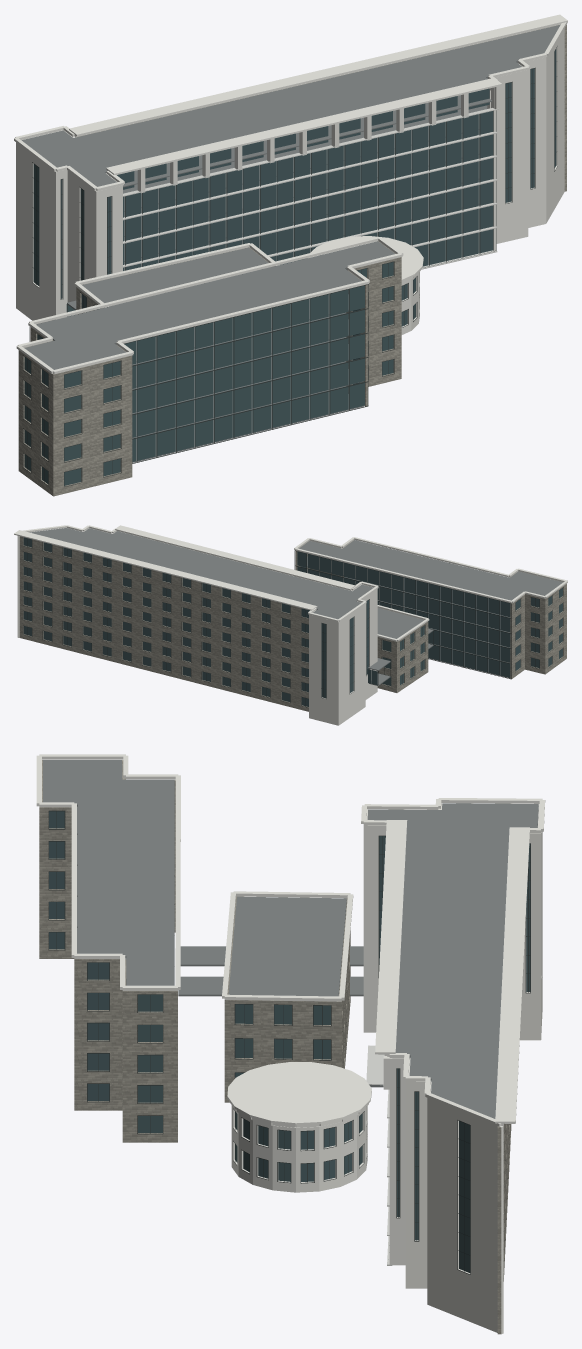
The picture shows the model from 3 angles, top to bottom: view 1: azimuth 30°, elevation 25°; view 2: azimuth 150°, elevation 25°; view 3: azimuth 270°, elevation 25°; orthographic projection. The views are drawn at different scales.
Visible parts, largest first — view 1: international__glass, international__roof, international__cream, international__stone, international__frame, international__light; view 2: international__stone, international__glass, international__roof, international__cream, international__frame; view 3: international__roof, international__cream, international__stone, international__glass, international__frame, international__light.
Boxes of the visible parts, x1=… form: international__glass: x1=24, y1=49, x2=556, y2=485; international__roof: x1=21, y1=25, x2=560, y2=462; international__cream: x1=14, y1=14, x2=567, y2=374; international__stone: x1=18, y1=24, x2=566, y2=496; international__frame: x1=23, y1=46, x2=557, y2=486; international__light: x1=123, y1=108, x2=498, y2=269; international__stone: x1=19, y1=536, x2=566, y2=711; international__glass: x1=23, y1=537, x2=562, y2=706; international__roof: x1=29, y1=528, x2=562, y2=685; international__cream: x1=14, y1=525, x2=567, y2=725; international__frame: x1=23, y1=538, x2=563, y2=707; international__roof: x1=43, y1=760, x2=538, y2=1118; international__cream: x1=36, y1=754, x2=545, y2=1334; international__stone: x1=39, y1=760, x2=511, y2=1334; international__glass: x1=49, y1=811, x2=530, y2=1272; international__frame: x1=48, y1=810, x2=530, y2=1274; international__light: x1=366, y1=1045, x2=392, y2=1265.
Size of the model in its own units: 118 by 27.64 by 59.5.
Materials: 6 (1 with a texture image).
